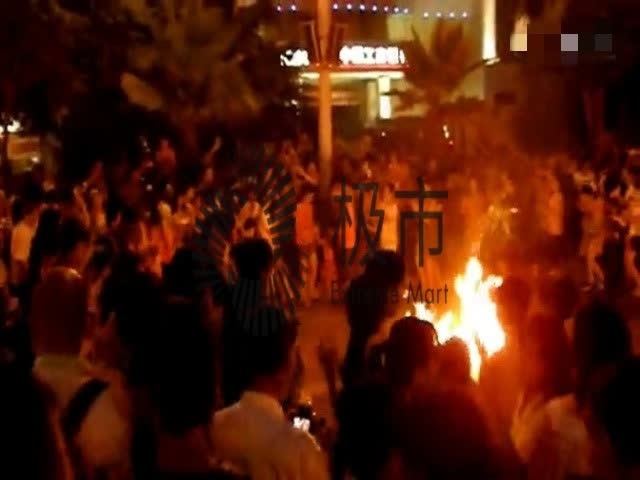fire: (404, 254, 507, 374)
